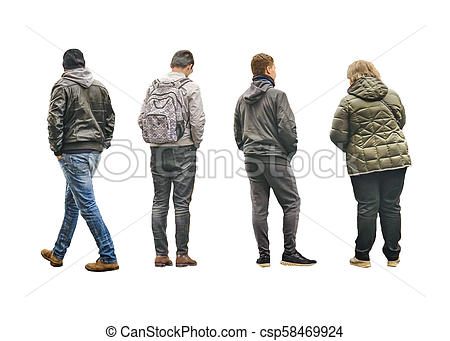Person: (230, 51, 322, 268), (40, 45, 122, 278), (327, 60, 413, 275), (140, 46, 204, 273)
